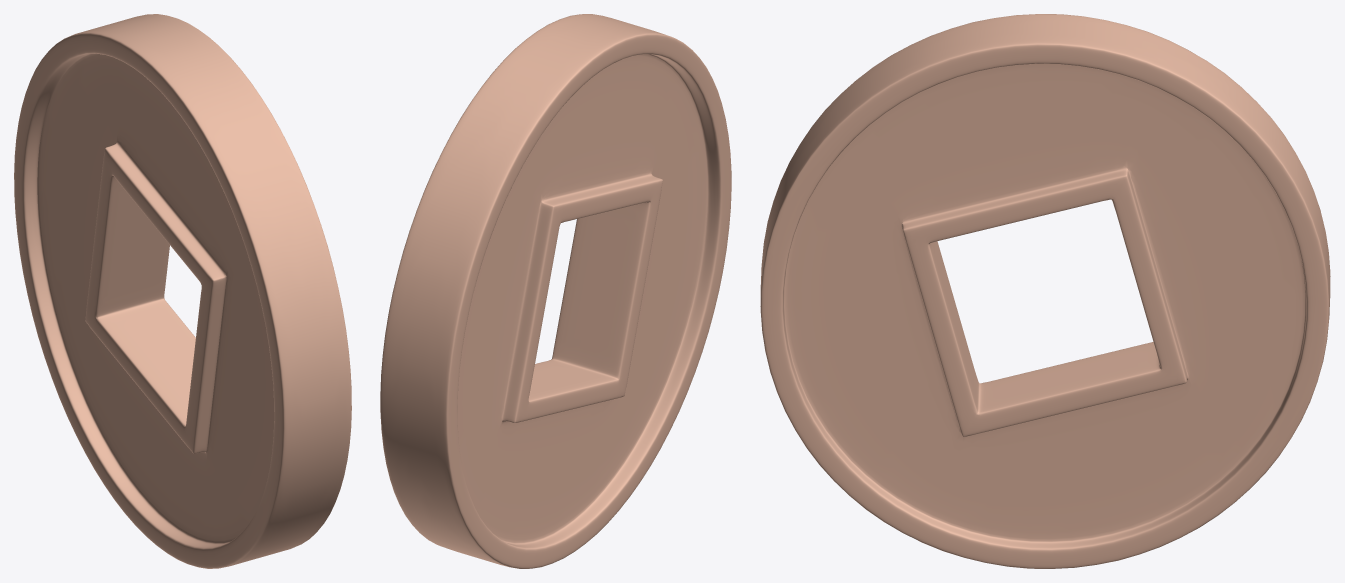
The model's file is store-transformed.glb.
The picture shows the model from 3 angles, left to right: view 1: azimuth 30°, elevation 25°; view 2: azimuth 150°, elevation 25°; view 3: azimuth 270°, elevation 25°; orthographic projection. The views are drawn at different scales.
Visible parts, largest first — view 1: Coin; view 2: Coin; view 3: Coin.
Boxes of the visible parts, box(x1,y1,x2,y2) form: Coin: box(14, 14, 351, 568); Coin: box(380, 14, 731, 568); Coin: box(760, 14, 1330, 568).
Size of the model in its own units: 0.012 by 0.0634 by 0.0633.
